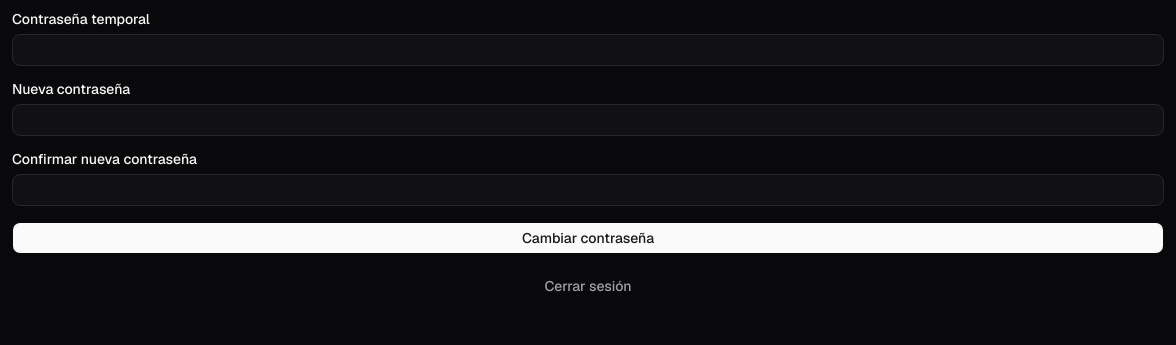
Test: ForcedPasswordChangeForm — server rejections › shows the server's message when the new password repeats the temporary one
Type "temp-pass" into the password field labelled "Contraseña temporal" at {"x": 588, "y": 50}, box [12, 34, 1164, 66]
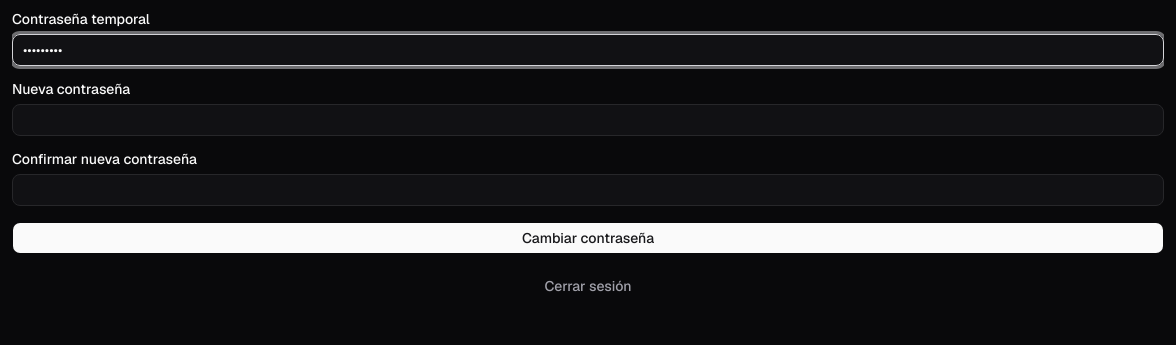
Type "temp-pass" into the password field labelled "Nueva contraseña" at {"x": 588, "y": 120}, box [12, 104, 1164, 136]
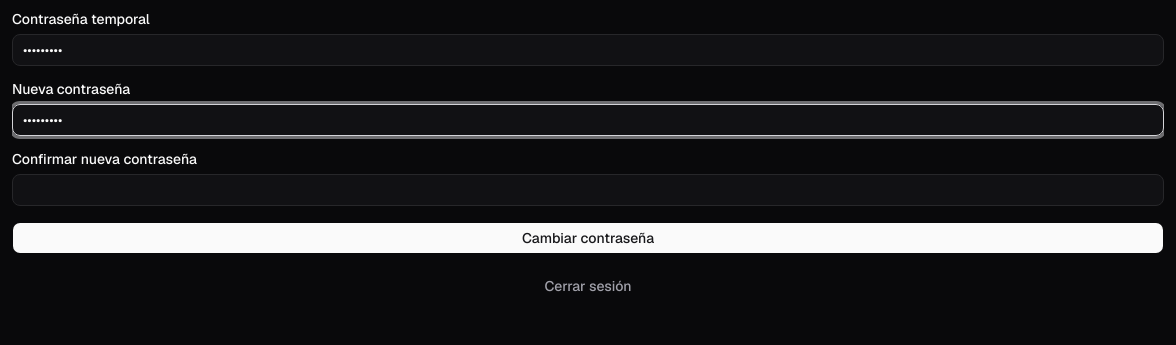
Type "temp-pass" into the password field labelled "Confirmar nueva contraseña" at {"x": 588, "y": 190}, box [12, 174, 1164, 206]
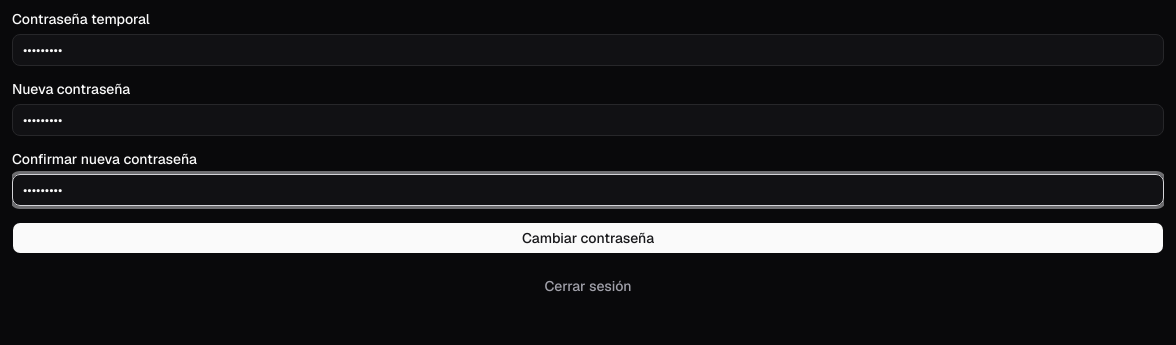
Click the button "Cambiar contraseña" at {"x": 588, "y": 238}, box [12, 222, 1164, 254]
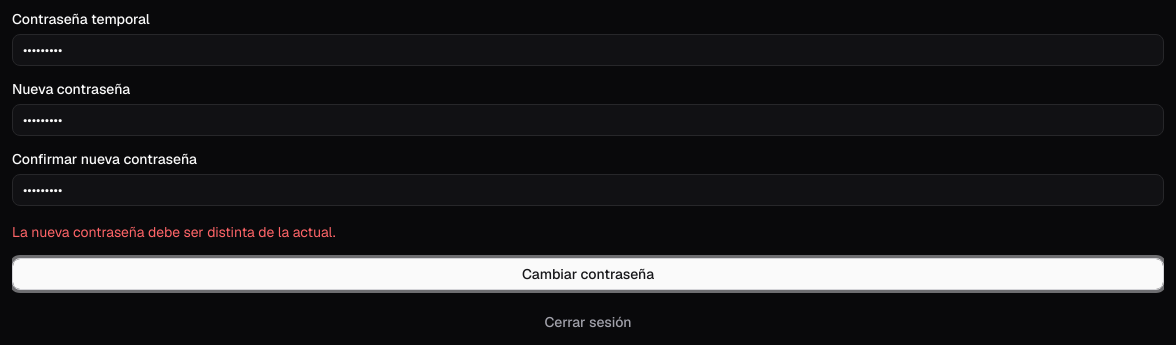
Check: the message reads "La nueva contraseña debe ser distinta de la actual.", box [12, 223, 336, 241]
